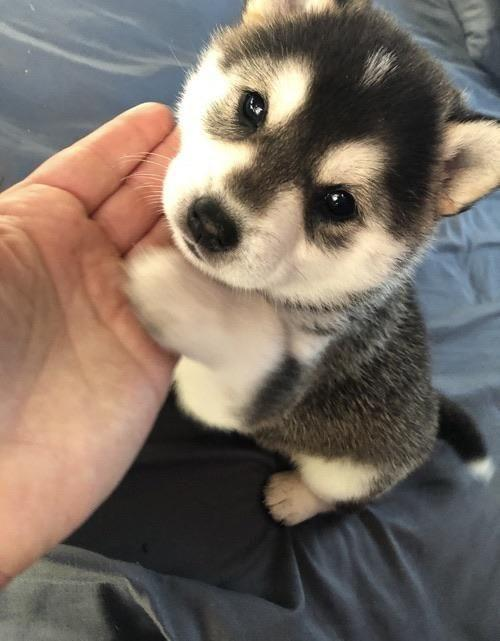puppy-dog: (123, 1, 500, 526)
